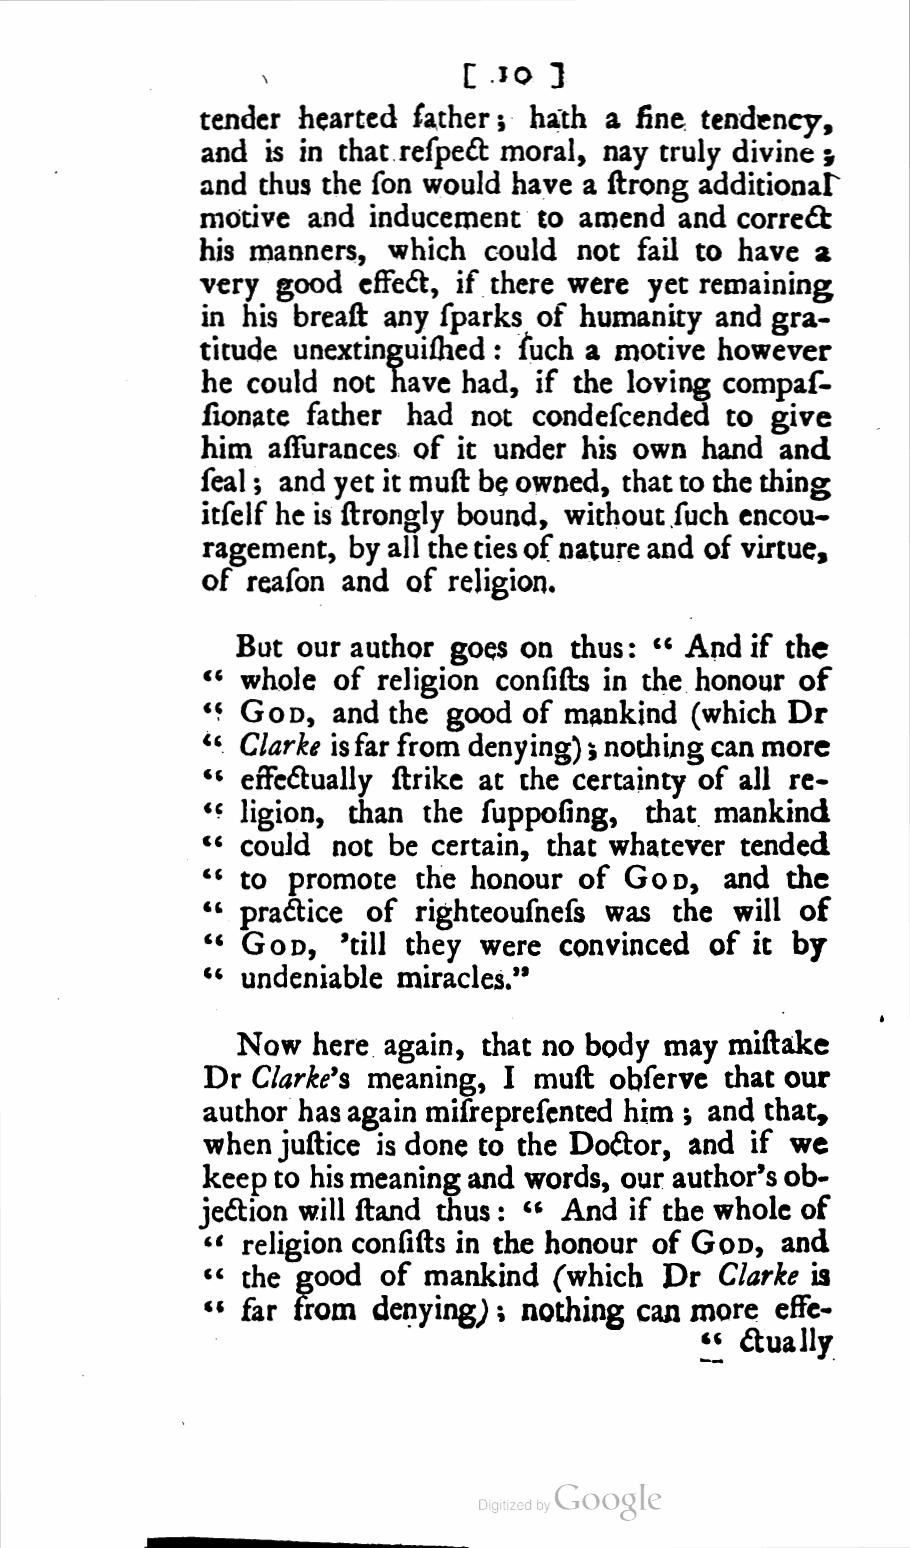bottom_p: (198, 102, 838, 598)
catchword: (704, 1328, 836, 1360)
full_p: (196, 626, 834, 998)
page_num: (494, 58, 534, 90)
top_p: (200, 1028, 834, 1326)
